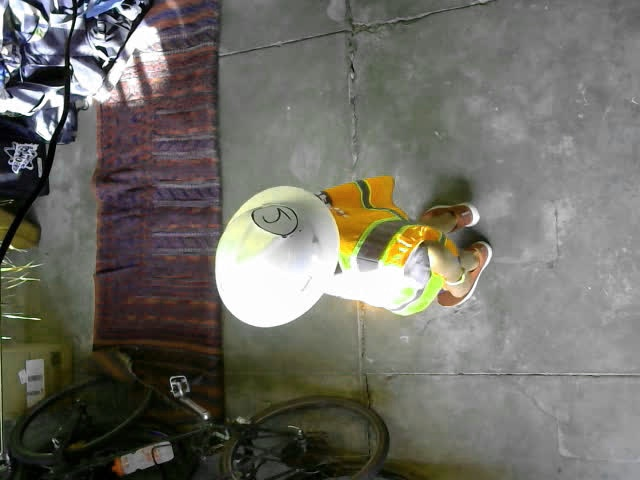two: (250, 204, 299, 236)
